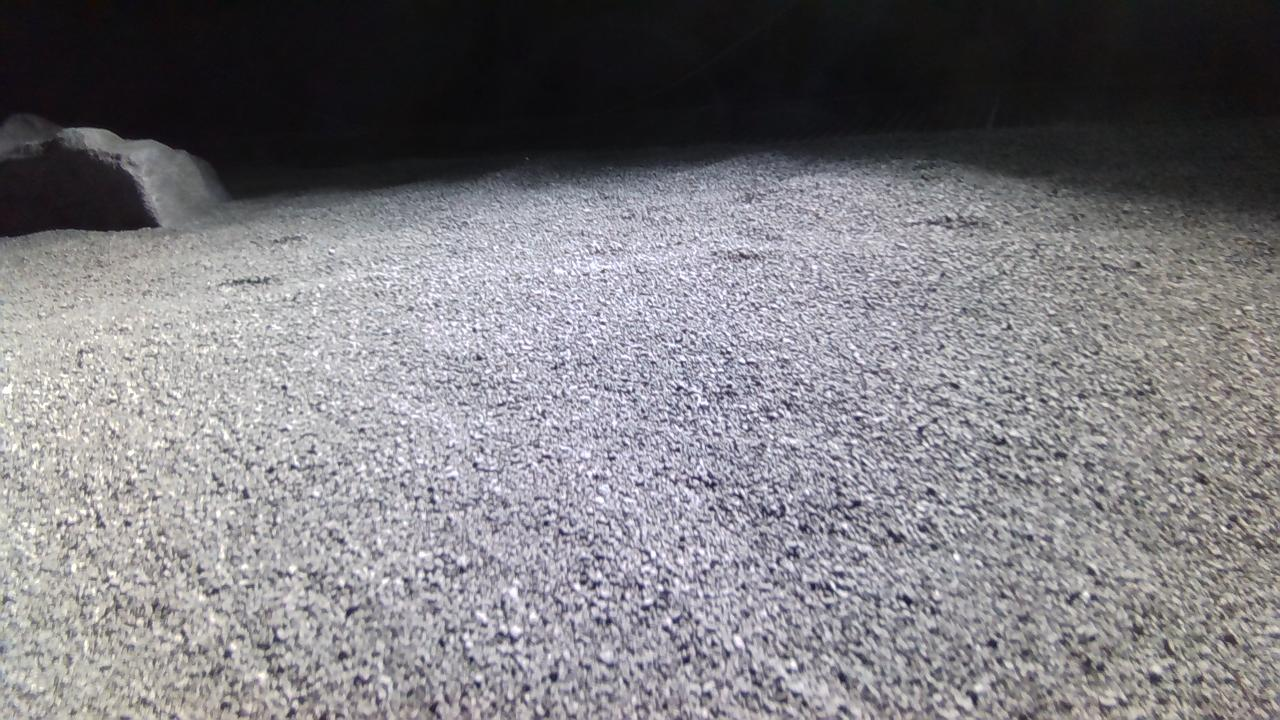rock: (0, 113, 228, 235)
